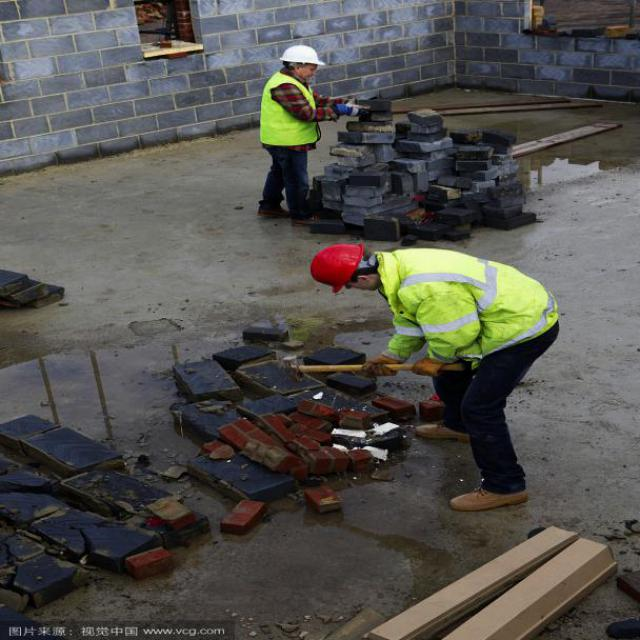gloves: (403, 355, 457, 383), (333, 94, 370, 126), (343, 359, 399, 378)
helmet: (301, 242, 393, 311), (267, 40, 333, 76)
vest: (383, 236, 551, 365), (252, 75, 335, 154)
